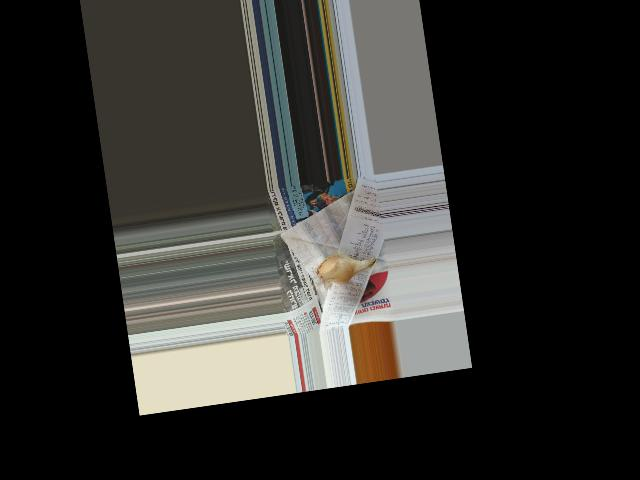onion: (314, 248, 361, 285)
